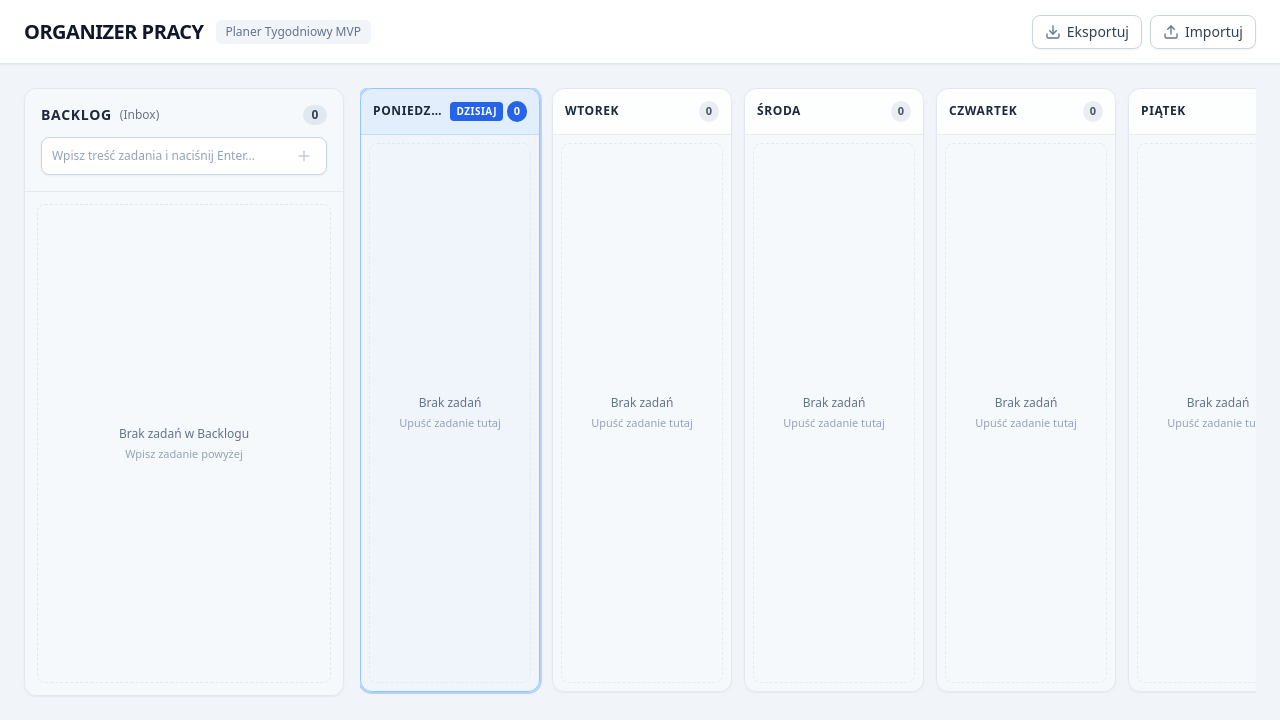
Scenario: App Layout Integration › adds a new task to Backlog using AddTaskForm when user submits text with Enter
The image size is (1280, 720).
Expected: the text with test id "backlog-count" reads "0", top-left (312, 106), bottom-right (318, 123)
In the field with test id "add-task-input": (169, 156) top-left (52, 148), bottom-right (286, 164), type "Nowe zadanie integracyjne"
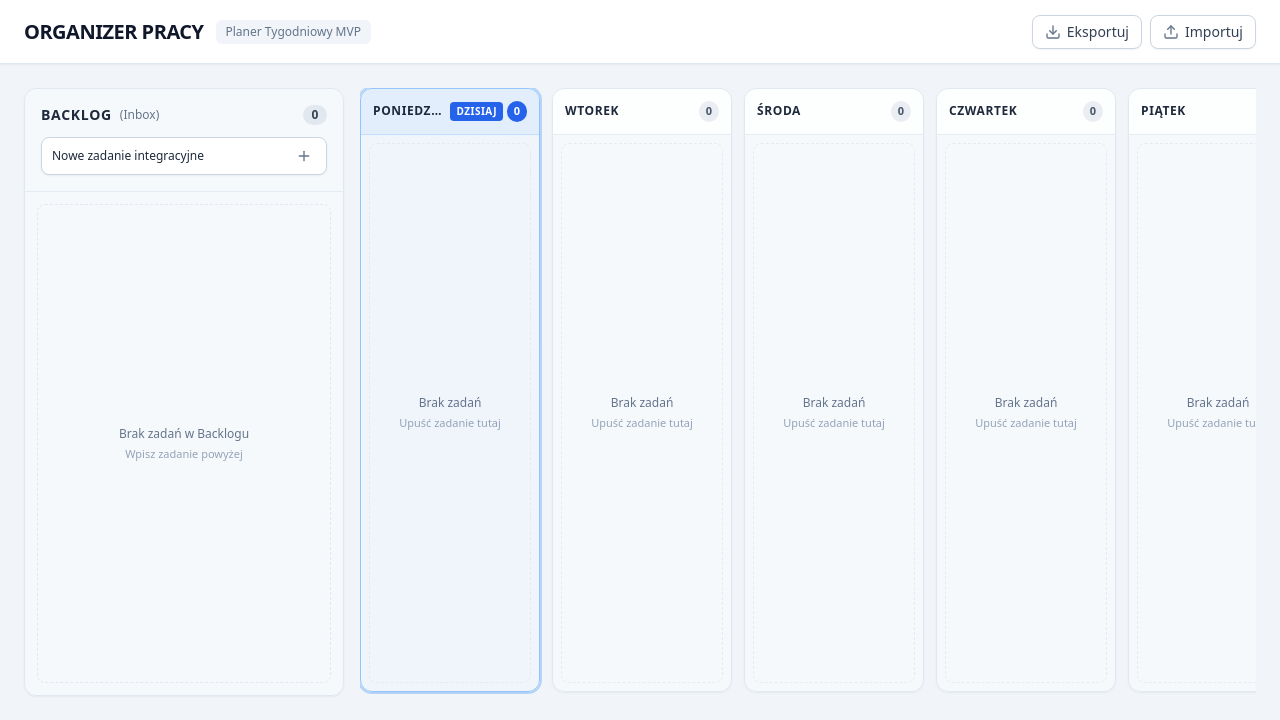
Submit the form with test id "add-task-form", box top-left (41, 137), bottom-right (327, 175)
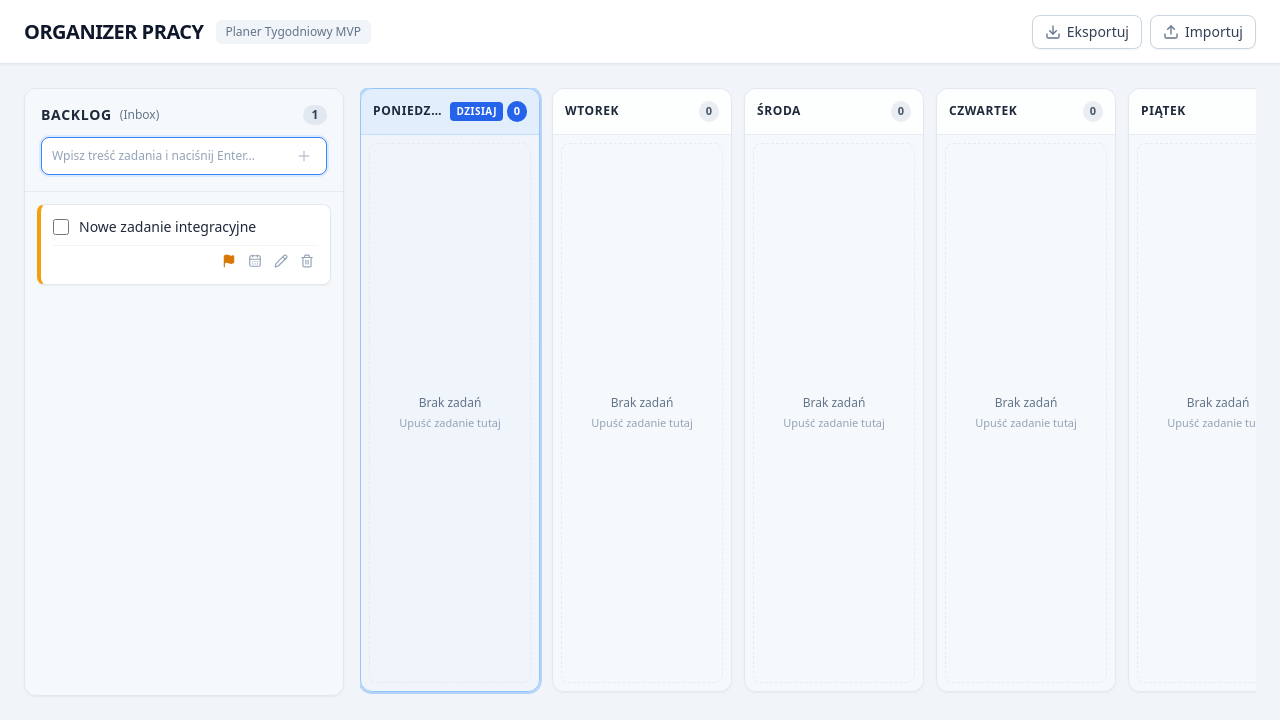
Expected: the text with test id "backlog-count" reads "1", top-left (312, 106), bottom-right (318, 123)
Expected: the text "Nowe zadanie integracyjne" is shown, top-left (79, 217), bottom-right (256, 236)
Expected: the field with test id "add-task-input" is empty, top-left (52, 148), bottom-right (286, 164)
